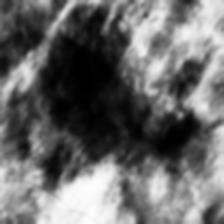Potentially Malignant Skin Tumors: (41, 4, 168, 180)
